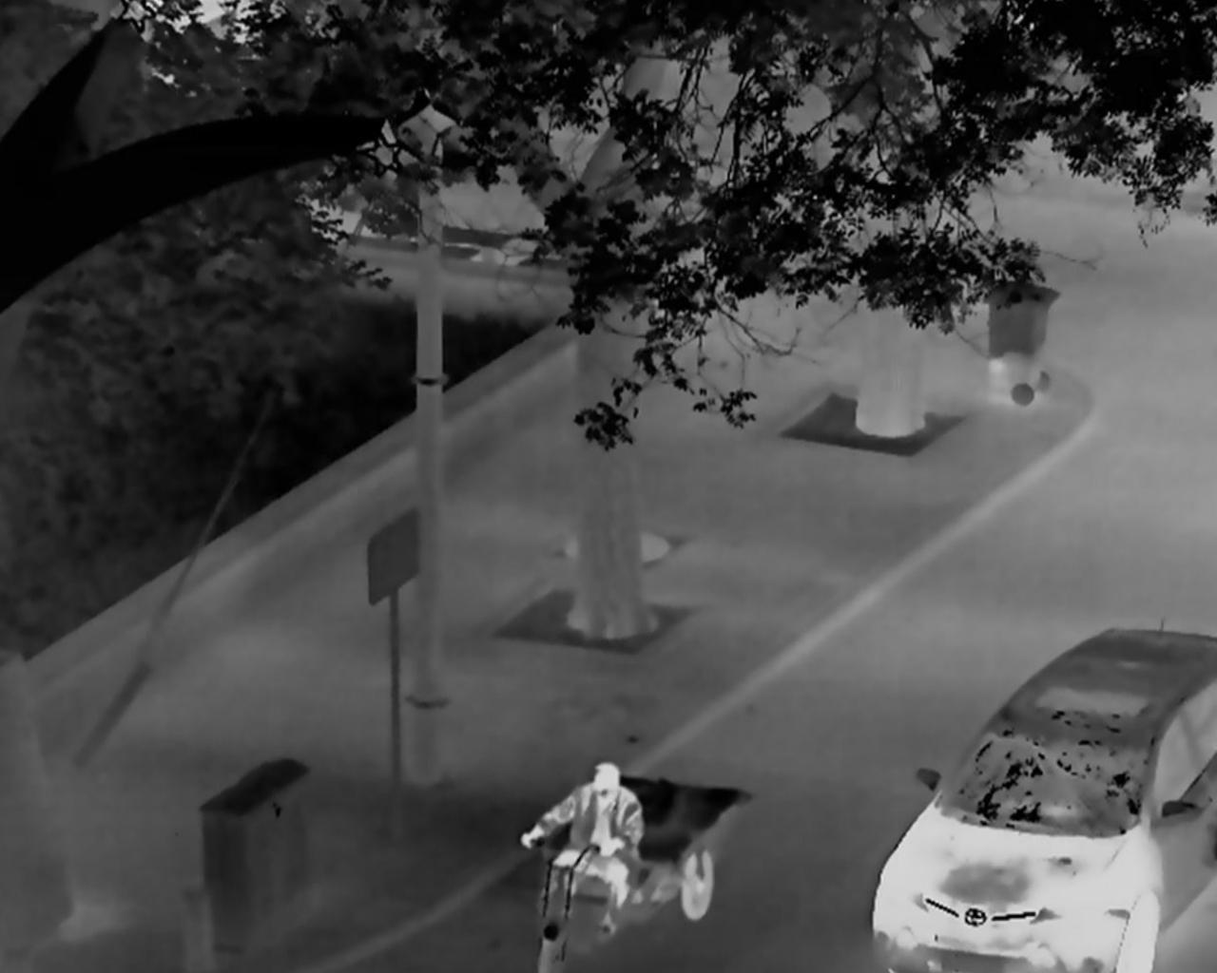person: (520, 760, 647, 939)
